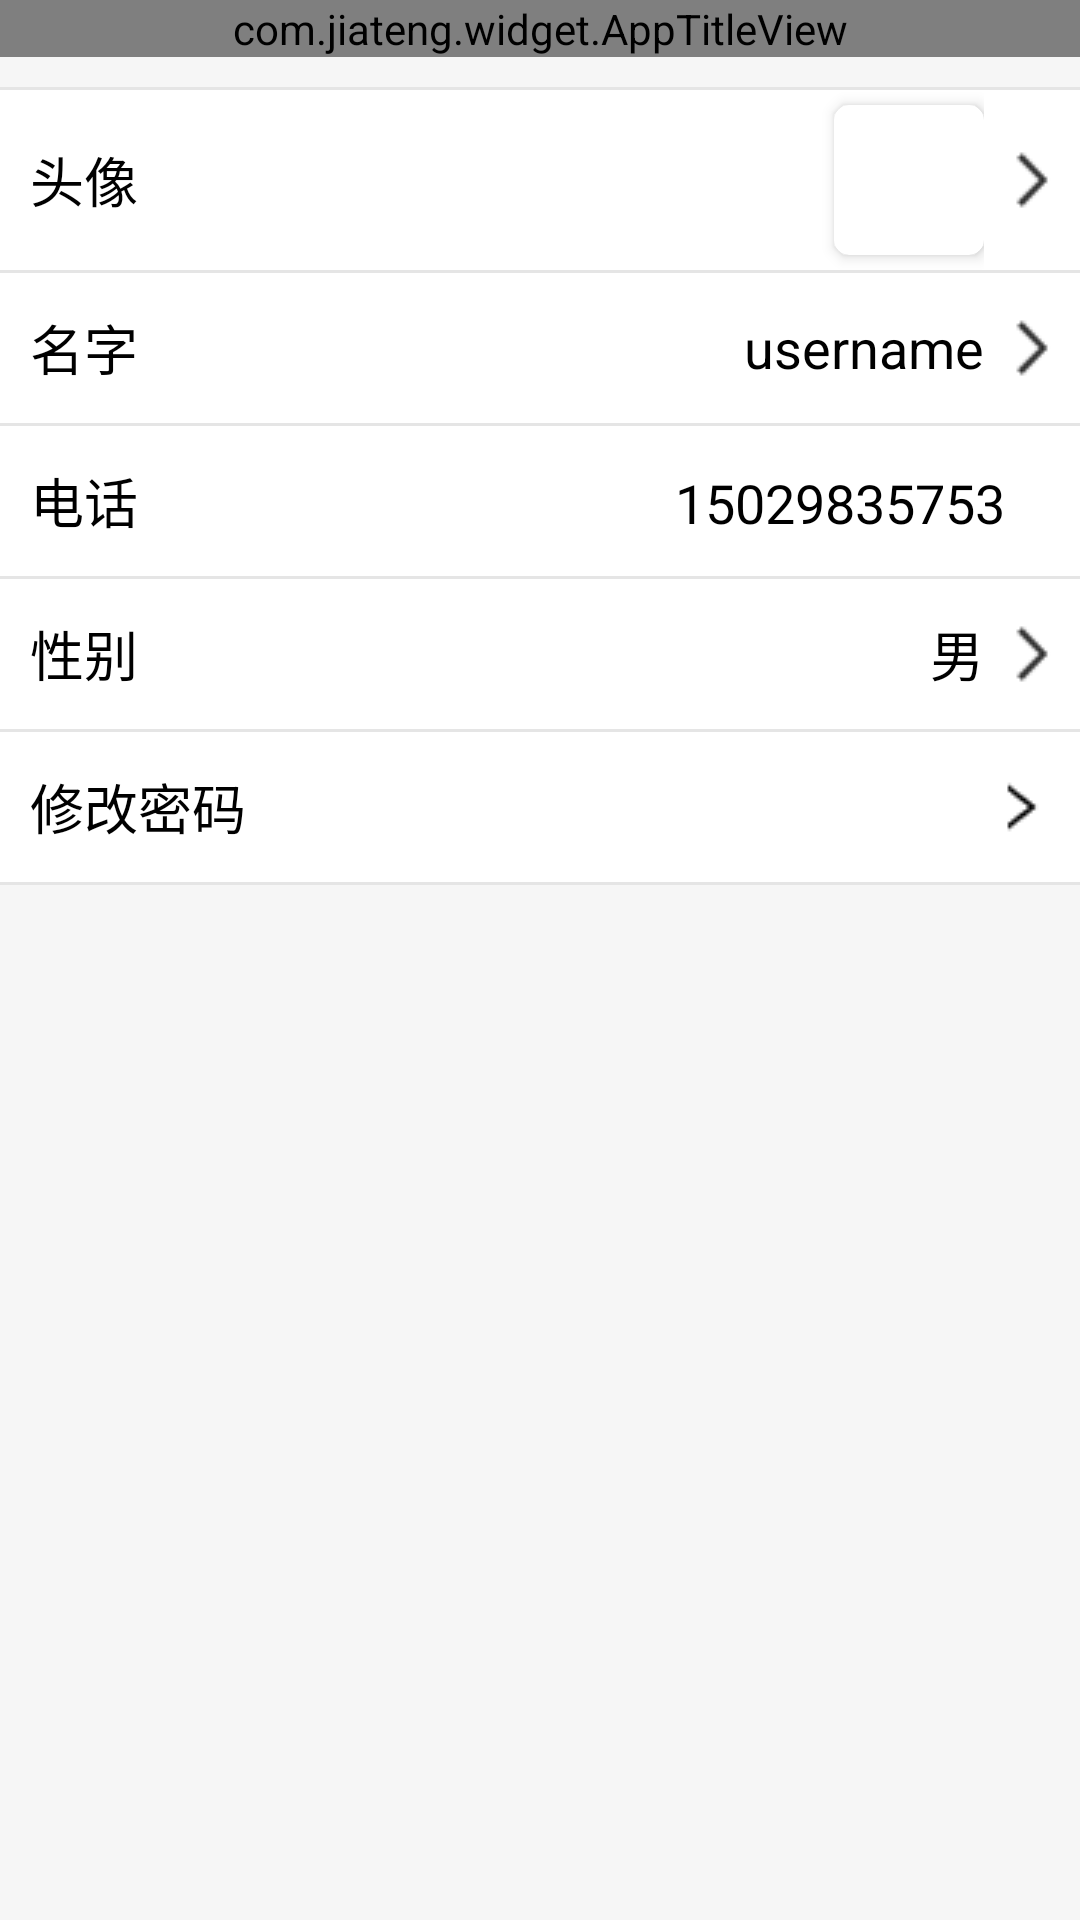

Icons on this 1080w x 1920h Android screen, each with the point to tap as point (x, y):
arrow right: point (1032, 180), point (1032, 348), point (1032, 654)
